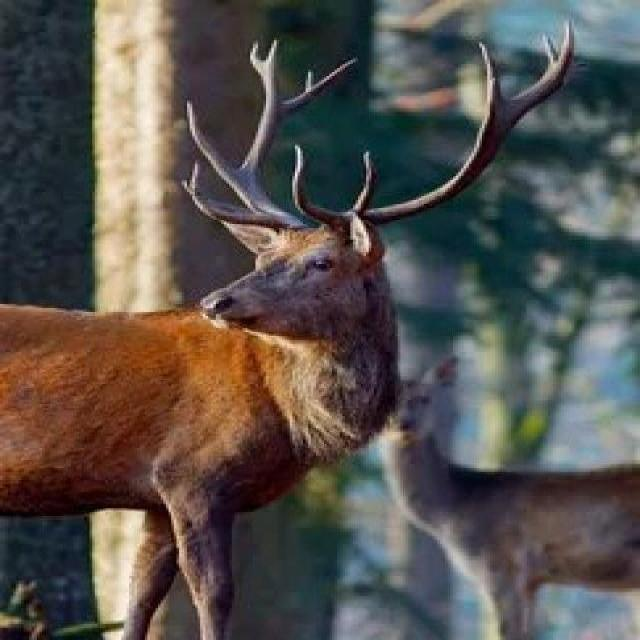deer: (24, 94, 552, 566)
